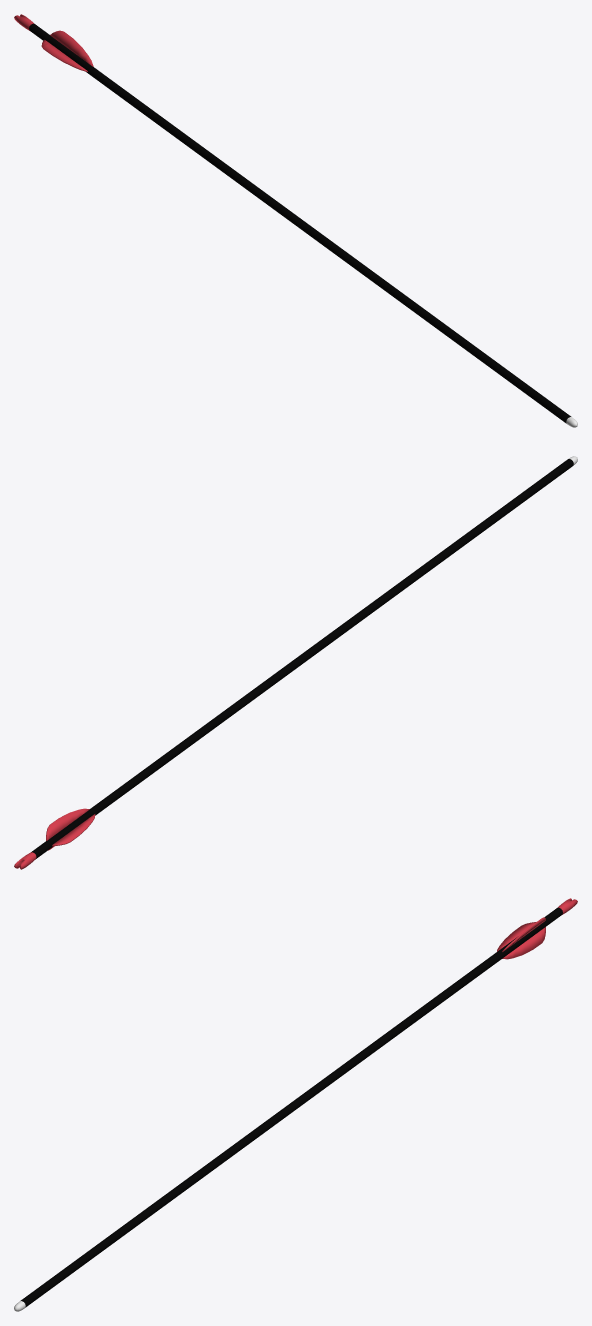
File: arrow.glb
The picture shows the model from 3 angles, top to bottom: view 1: azimuth 30°, elevation 25°; view 2: azimuth 150°, elevation 25°; view 3: azimuth 330°, elevation 25°; orthographic projection.
Visible parts, largest first — view 1: Arrow; view 2: Arrow; view 3: Arrow.
Boxes of the visible parts, left/top/right/bottom form: Arrow: left=14, top=14, right=577, bottom=427; Arrow: left=14, top=456, right=577, bottom=869; Arrow: left=14, top=898, right=577, bottom=1311.
Bounding box in the file's own units: 0.0217 × 0.025 × 1.01.
